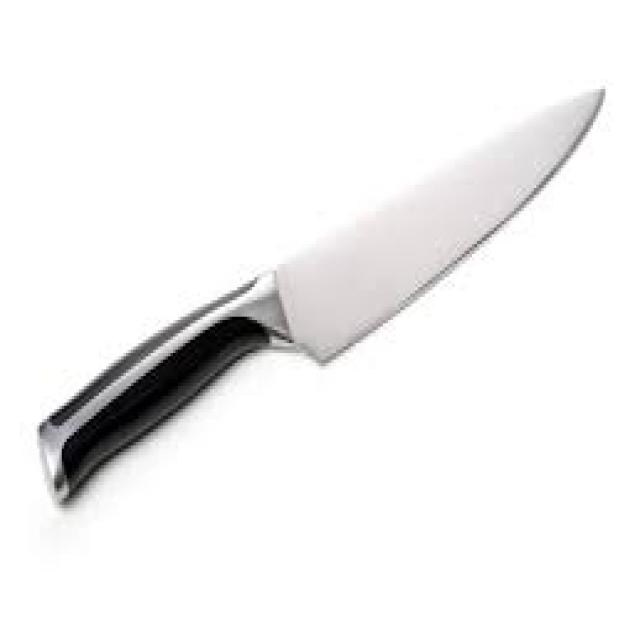Knife: (42, 89, 605, 505)
